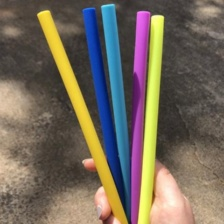drinking_straw: (33, 4, 131, 223), (133, 9, 169, 224)
